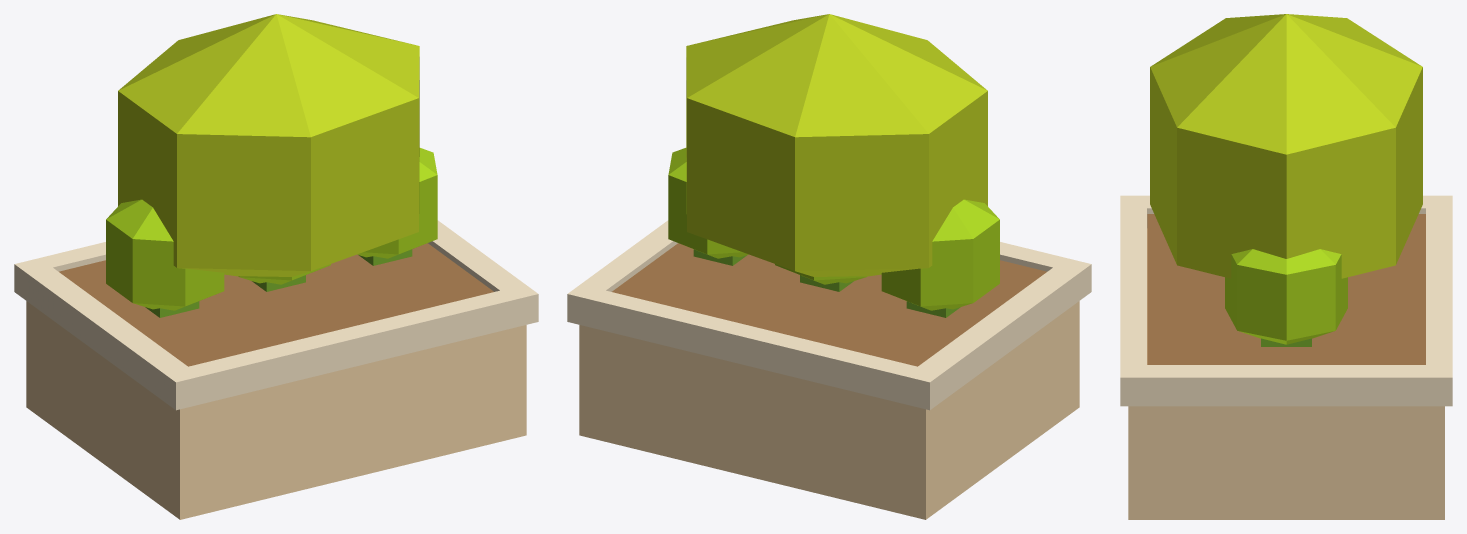
Rendered from Planter_Round_Shrub.glb.
3 renders of one model, left to right at view 1: azimuth 30°, elevation 25°; view 2: azimuth 150°, elevation 25°; view 3: azimuth 270°, elevation 25°, orthographic. The views are drawn at different scales.
Parts seen in each view (by area): view 1: Planter_Round_Shrub; view 2: Planter_Round_Shrub; view 3: Planter_Round_Shrub.
Part boxes in pixels (left/top/right/bottom): Planter_Round_Shrub: left=14, top=14, right=538, bottom=519; Planter_Round_Shrub: left=567, top=14, right=1091, bottom=519; Planter_Round_Shrub: left=1120, top=14, right=1452, bottom=519.
Bounding box in the file's own units: 1.36 × 1.46 × 1.05.
